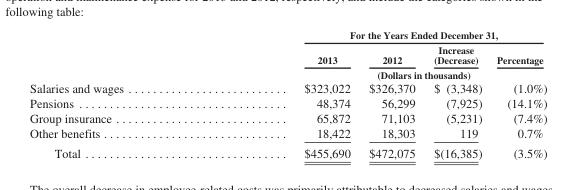table: (29, 28, 546, 159)
table column: (29, 28, 213, 159), (213, 28, 359, 159), (423, 28, 488, 159), (359, 28, 423, 159), (488, 28, 546, 159)
table column header: (29, 28, 546, 80)
table row: (29, 42, 546, 66), (29, 125, 546, 142), (29, 142, 546, 159), (29, 80, 546, 95), (29, 95, 546, 110), (29, 110, 546, 125), (29, 28, 546, 42), (29, 66, 546, 80)
table spanning cell: (213, 28, 546, 42), (213, 66, 546, 80)
